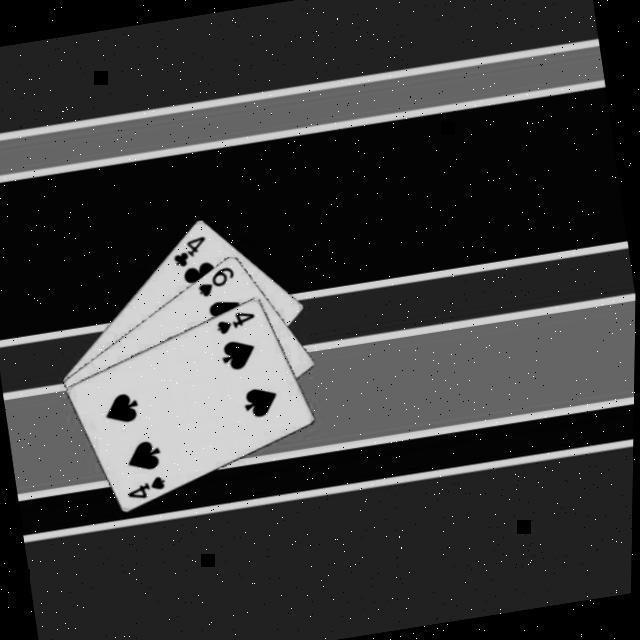4C: (168, 231, 213, 271)
4S: (213, 305, 262, 338), (124, 470, 172, 503)
6S: (195, 262, 241, 300)
